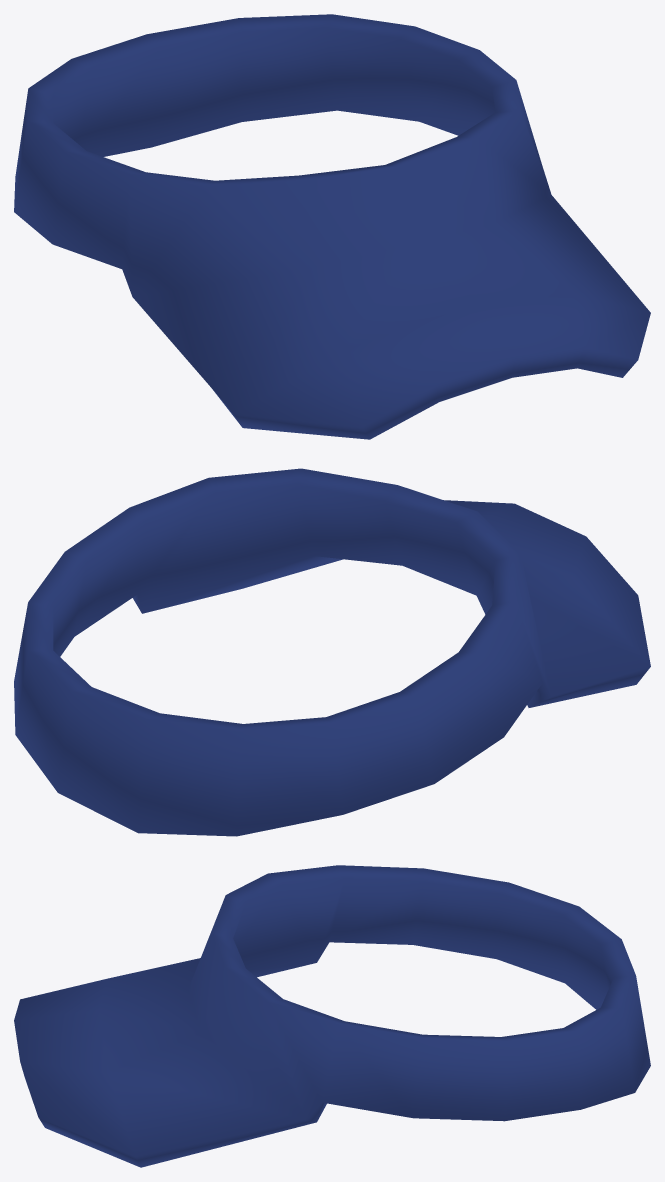
File: accessory-visor.glb
The picture shows the model from 3 angles, top to bottom: view 1: azimuth 30°, elevation 25°; view 2: azimuth 150°, elevation 25°; view 3: azimuth 270°, elevation 25°; orthographic projection. The views are drawn at different scales.
Visible parts, largest first — view 1: accessory__head_001__0; view 2: accessory__head_001__0; view 3: accessory__head_001__0.
Boxes of the visible parts, box(x1,y1,x2,y2) form: accessory__head_001__0: box(14, 14, 650, 439); accessory__head_001__0: box(14, 468, 650, 836); accessory__head_001__0: box(14, 865, 650, 1167).
Bounding box in the file's own units: 0.6553 × 0.2545 × 0.9473.
